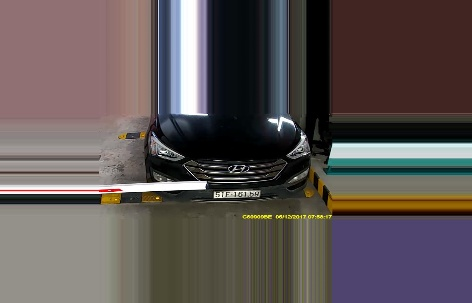plate: (214, 186, 260, 202)
